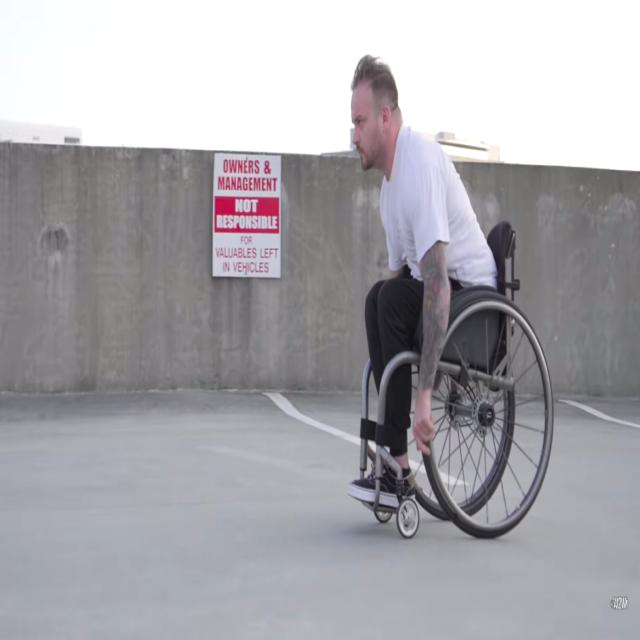wheelchairs: (352, 247, 553, 543)
